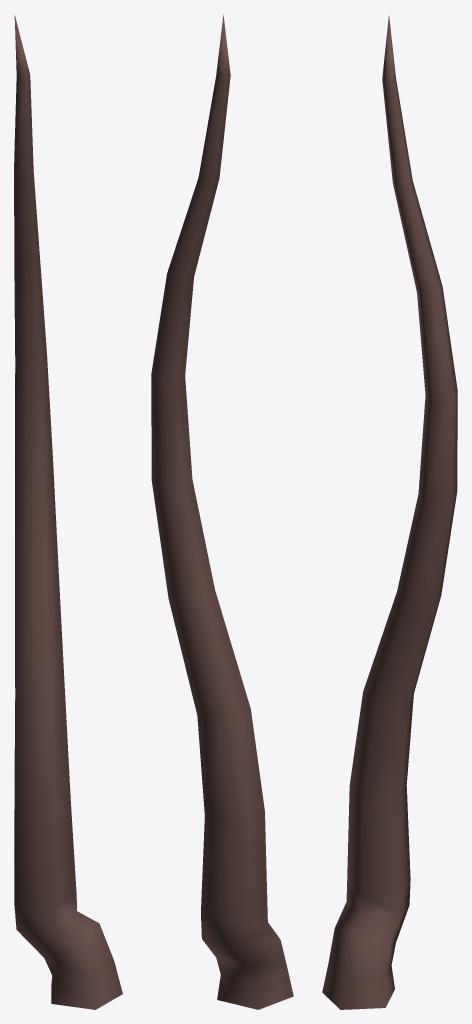
Rendered from root_wall_long_003.fbx.
3 renders of one model, left to right at view 1: azimuth 90°, elevation 25°; view 2: azimuth 150°, elevation 25°; view 3: azimuth 330°, elevation 25°, orthographic. The views are drawn at different scales.
Parts seen in each view (by area): view 1: root.wall.long.003; view 2: root.wall.long.003; view 3: root.wall.long.003.
Part boxes in pixels (left/top/right/bottom): root.wall.long.003: left=14, top=15, right=122, bottom=1009; root.wall.long.003: left=151, top=14, right=293, bottom=1009; root.wall.long.003: left=322, top=15, right=457, bottom=1009.
Size of the model in its own units: 75.06 by 671 by 67.49.
